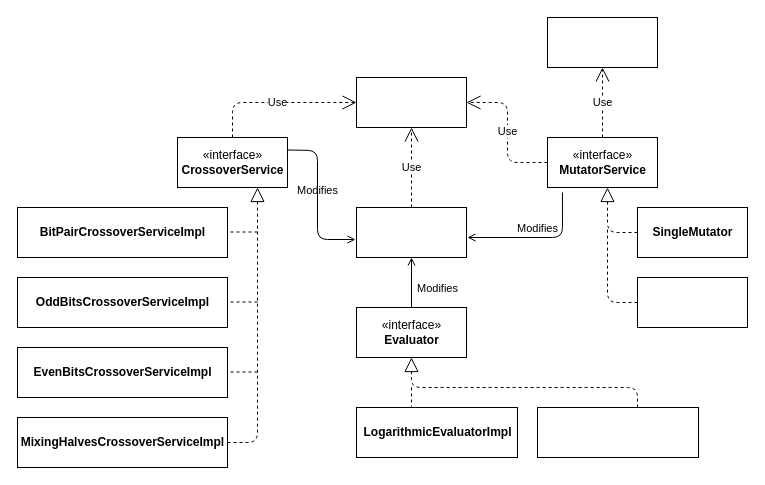
Some shapes in this 765 by 485 pixel diagram are drawn without their labels. The shapes that lost their labels are listed below. From the top down, each one's centre as x and y in pixels, then its label:
At point (602, 42): "BitwiseUtils".
At point (411, 102): "«interface» RandomProvider".
At point (411, 232): "Gene".
At point (692, 302): "MultipleMutator".
At point (617, 432): "MaxDeltaEvaluatorImpl".
